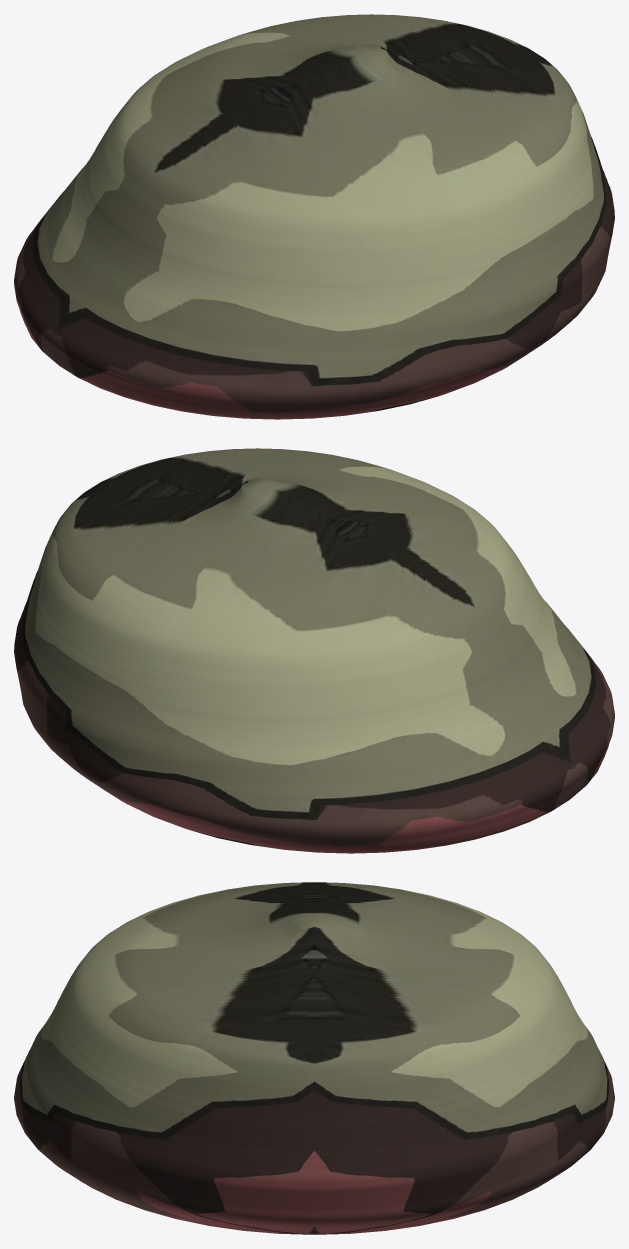
The model's file is mossy_boulder.glb.
3 views of the same model, one above another, from view 1: azimuth 30°, elevation 25°; view 2: azimuth 150°, elevation 25°; view 3: azimuth 270°, elevation 25° (orthographic). The views are drawn at different scales.
Visible parts, largest first — view 1: mossy_boulder; view 2: mossy_boulder; view 3: mossy_boulder.
Part boxes in pixels (box(x1,y1,x2,y2)): mossy_boulder: box(14, 14, 614, 419); mossy_boulder: box(14, 448, 614, 853); mossy_boulder: box(14, 882, 614, 1234).
Bounding box in the file's own units: 0.9948 × 0.4568 × 0.9539.
1 material, 1 textured.
